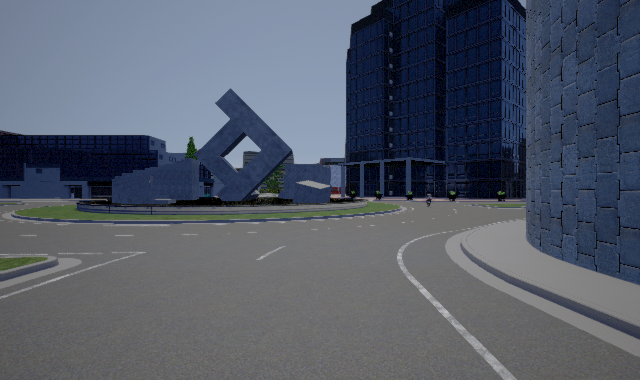bike: (423, 191, 433, 207)
